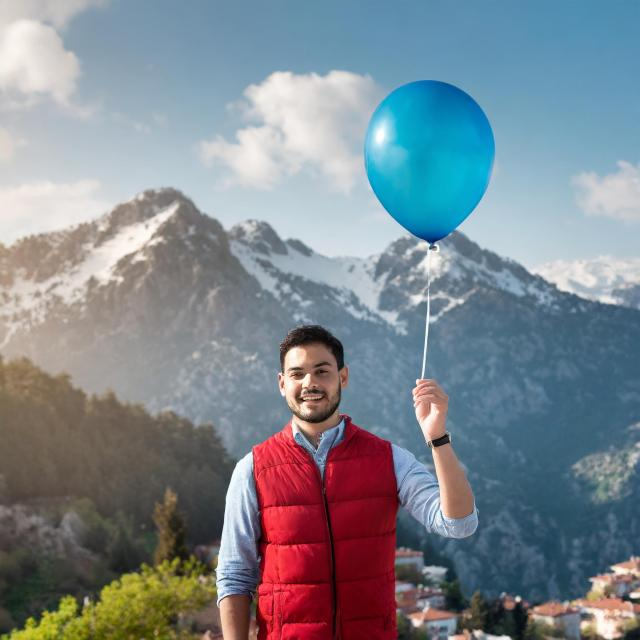blue: (365, 80, 496, 248)
